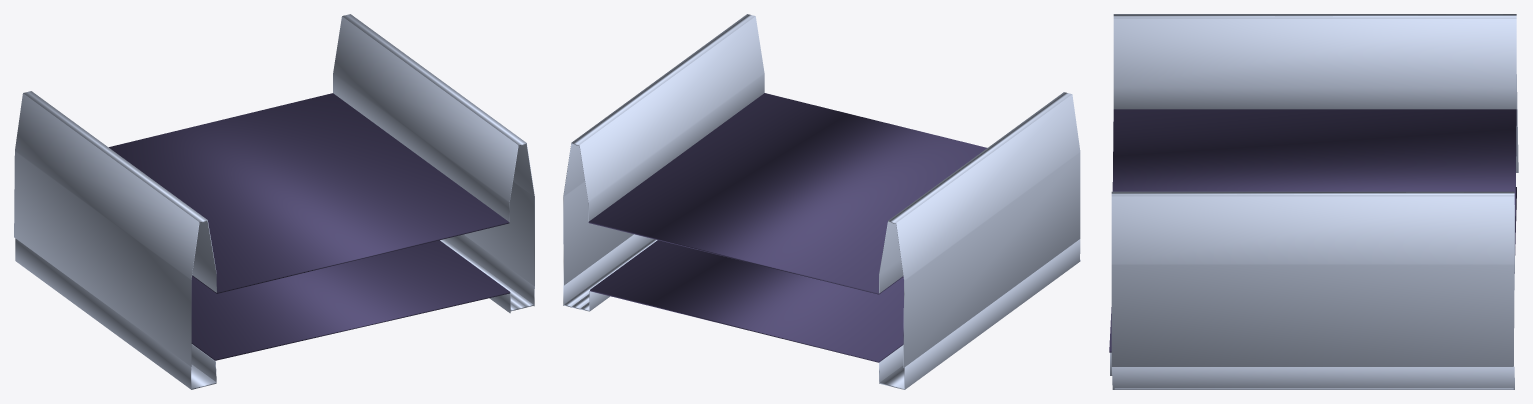
File: kısaconveyor.fbx
The picture shows the model from 3 angles, left to right: view 1: azimuth 30°, elevation 25°; view 2: azimuth 150°, elevation 25°; view 3: azimuth 270°, elevation 25°; orthographic projection. The views are drawn at different scales.
Visible parts, largest first — view 1: long conveyor_low.007; view 2: long conveyor_low.007; view 3: long conveyor_low.007.
Boxes of the visible parts, <box> form: long conveyor_low.007: <box>14,14,534,389</box>; long conveyor_low.007: <box>563,14,1080,389</box>; long conveyor_low.007: <box>1109,14,1518,389</box>.
Bounding box in the file's own units: 159 × 144 × 73.44.
